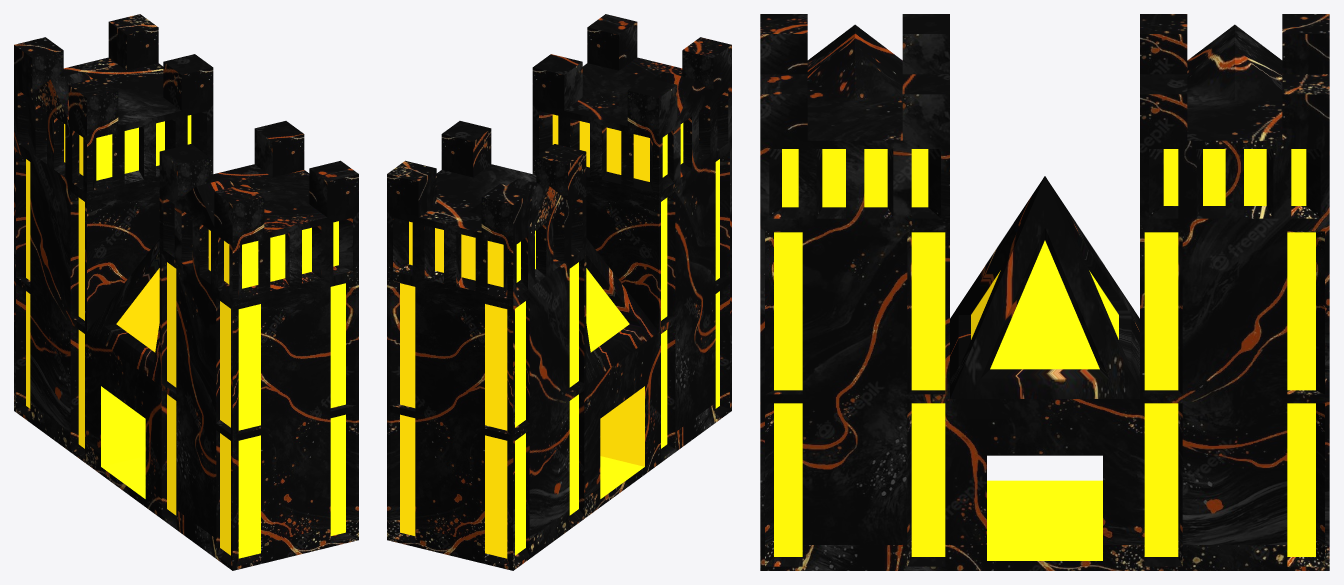
File: track3Building1.glb
The picture shows the model from 3 angles, left to right: view 1: azimuth 30°, elevation 25°; view 2: azimuth 150°, elevation 25°; view 3: azimuth 270°, elevation 25°; orthographic projection. The views are drawn at different scales.
Visible parts, largest first — view 1: Cube.001; view 2: Cube.001; view 3: Cube.001.
Part boxes in pixels (<box>): Cube.001: <box>14,14,358,570</box>; Cube.001: <box>387,14,731,570</box>; Cube.001: <box>760,14,1329,570</box>.
Bounding box in the file's own units: 1.95 × 5.41 × 5.86.
Materials: 2 (1 with a texture image).
